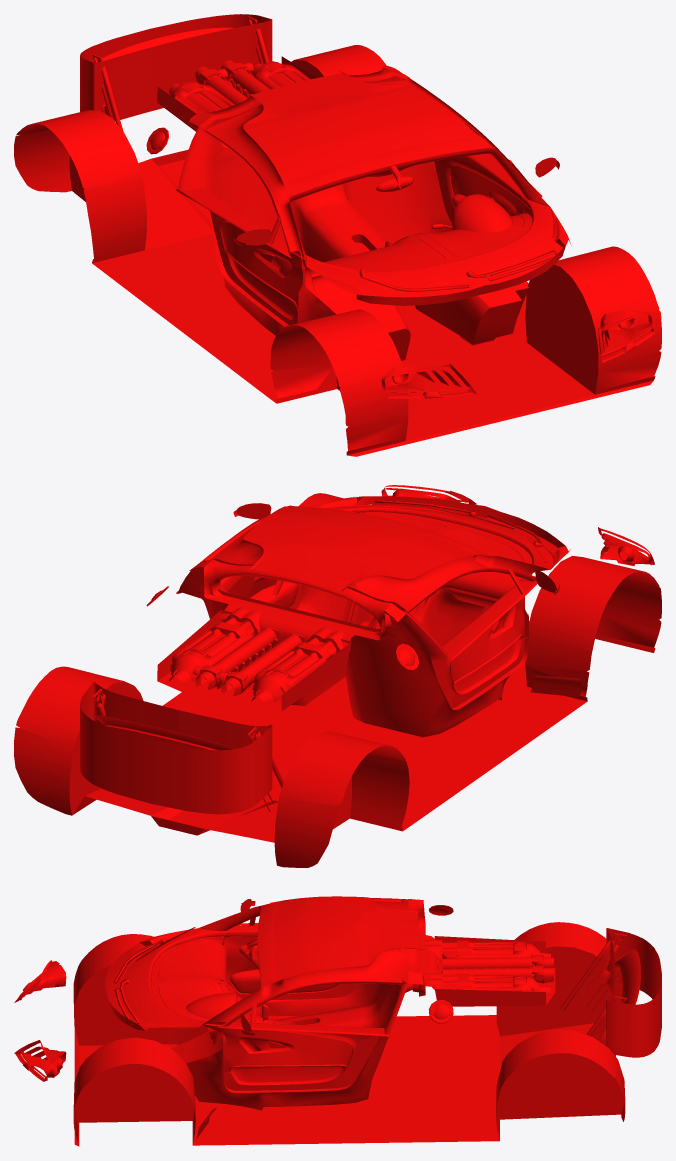
Rendered from Veyron_Chassis_Trim.fbx.
The picture shows the model from 3 angles, top to bottom: view 1: azimuth 30°, elevation 25°; view 2: azimuth 150°, elevation 25°; view 3: azimuth 270°, elevation 25°; orthographic projection. The views are drawn at different scales.
Parts seen in each view (by area): view 1: Veyron_Chassis_Trim; view 2: Veyron_Chassis_Trim; view 3: Veyron_Chassis_Trim.
Boxes of the visible parts, box(x1,y1,x2,y2) form: Veyron_Chassis_Trim: box(14, 14, 661, 456); Veyron_Chassis_Trim: box(14, 485, 661, 867); Veyron_Chassis_Trim: box(14, 896, 661, 1146).
Bounding box in the file's own units: 196 × 109 × 407.
